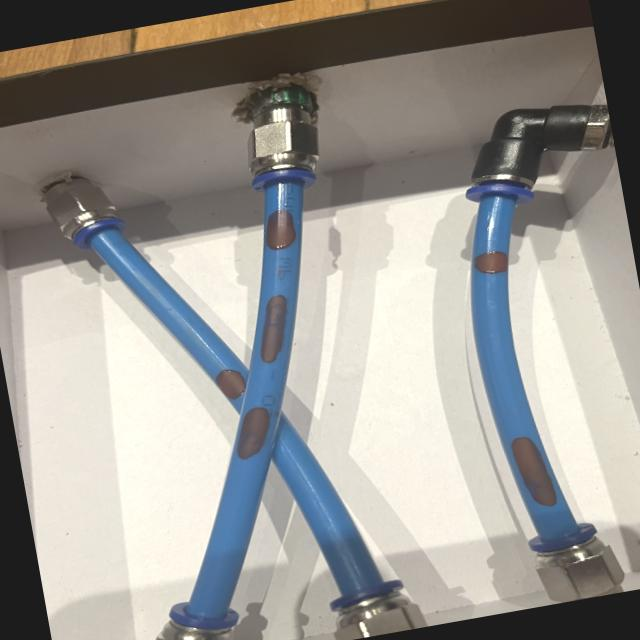hose_damage: (498, 429, 565, 517), (246, 290, 302, 364), (229, 402, 275, 467), (258, 206, 302, 253), (470, 246, 516, 278), (212, 364, 248, 404)
